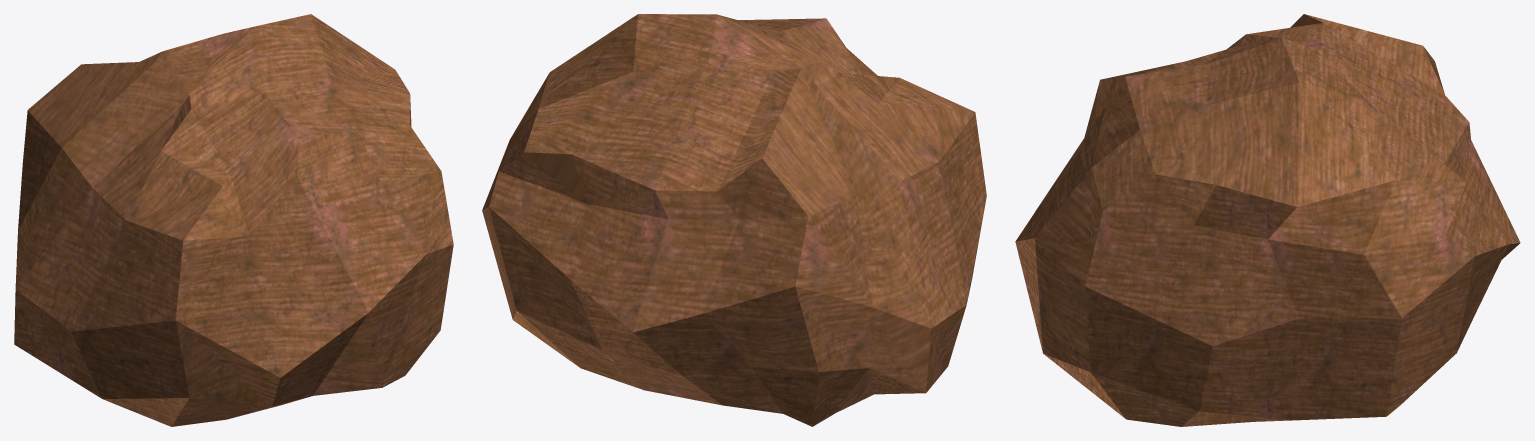
The model's file is Pedra_3_Desertica.fbx.
3 renders of one model, left to right at view 1: azimuth 30°, elevation 25°; view 2: azimuth 150°, elevation 25°; view 3: azimuth 270°, elevation 25°, orthographic. The views are drawn at different scales.
Parts seen in each view (by area): view 1: Pedra_3; view 2: Pedra_3; view 3: Pedra_3.
Boxes of the visible parts, x1,y1,x2,y2 form: Pedra_3: (14,14,453,426); Pedra_3: (482,14,986,426); Pedra_3: (1015,14,1520,426).
Bounding box in the file's own units: 289 × 233 × 308.
Materials: 1 (1 with a texture image).
